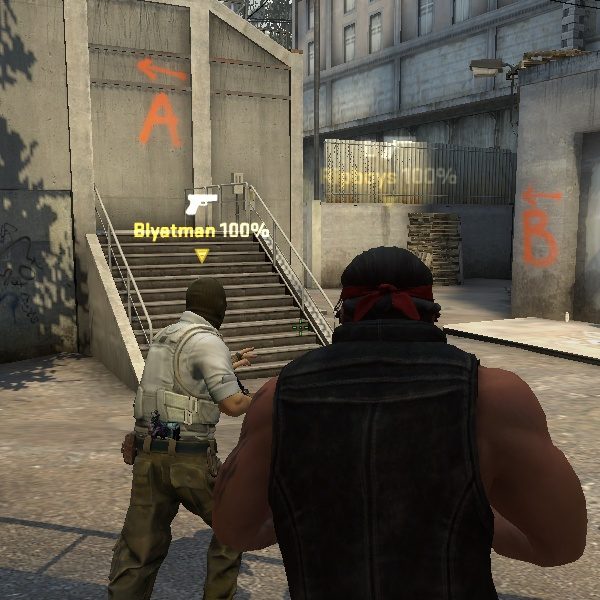t_body: (228, 239, 589, 594), (96, 264, 287, 600)
t_head: (323, 236, 464, 360), (176, 266, 238, 340)
